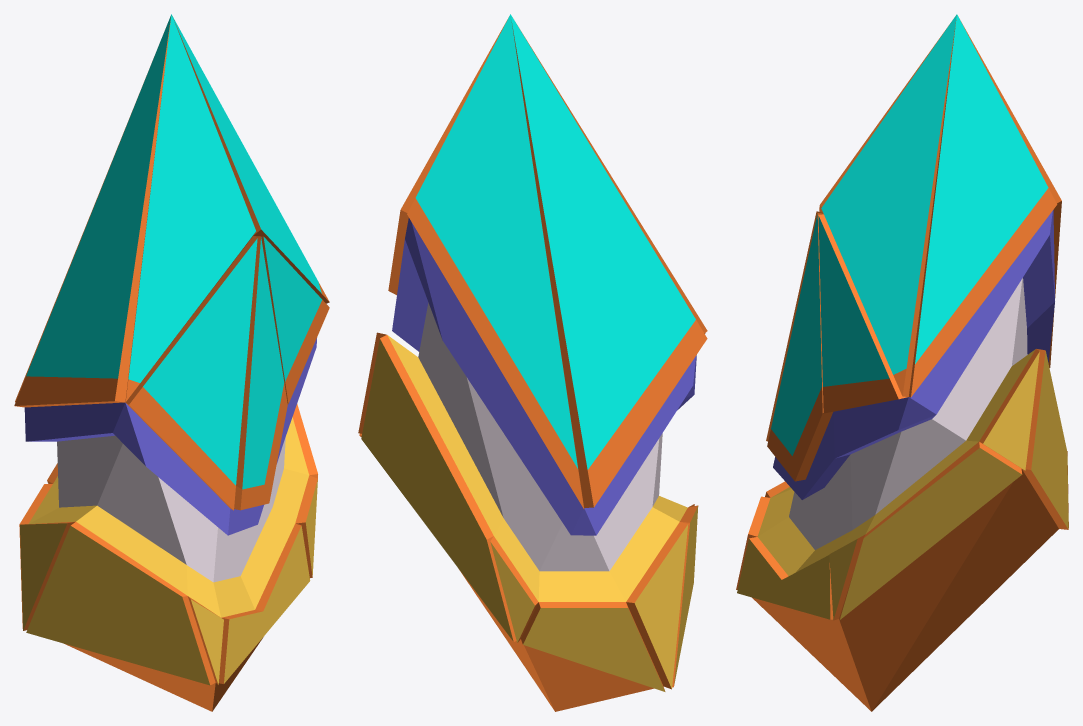
The model's file is Unobtainium (1).fbx.
3 views of the same model, side by side, from view 1: azimuth 30°, elevation 25°; view 2: azimuth 150°, elevation 25°; view 3: azimuth 270°, elevation 25° (orthographic). The views are drawn at different scales.
Parts seen in each view (by area): view 1: Unobtainium; view 2: Unobtainium; view 3: Unobtainium.
Boxes of the visible parts, bbox=[...] form: Unobtainium: bbox=[14, 14, 329, 711]; Unobtainium: bbox=[358, 14, 707, 711]; Unobtainium: bbox=[736, 14, 1068, 711].
Size of the model in its own units: 137 by 310 by 134.
